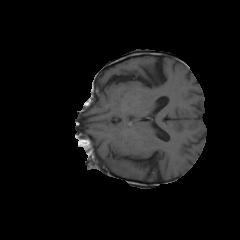glioma: (105, 141, 143, 178)
